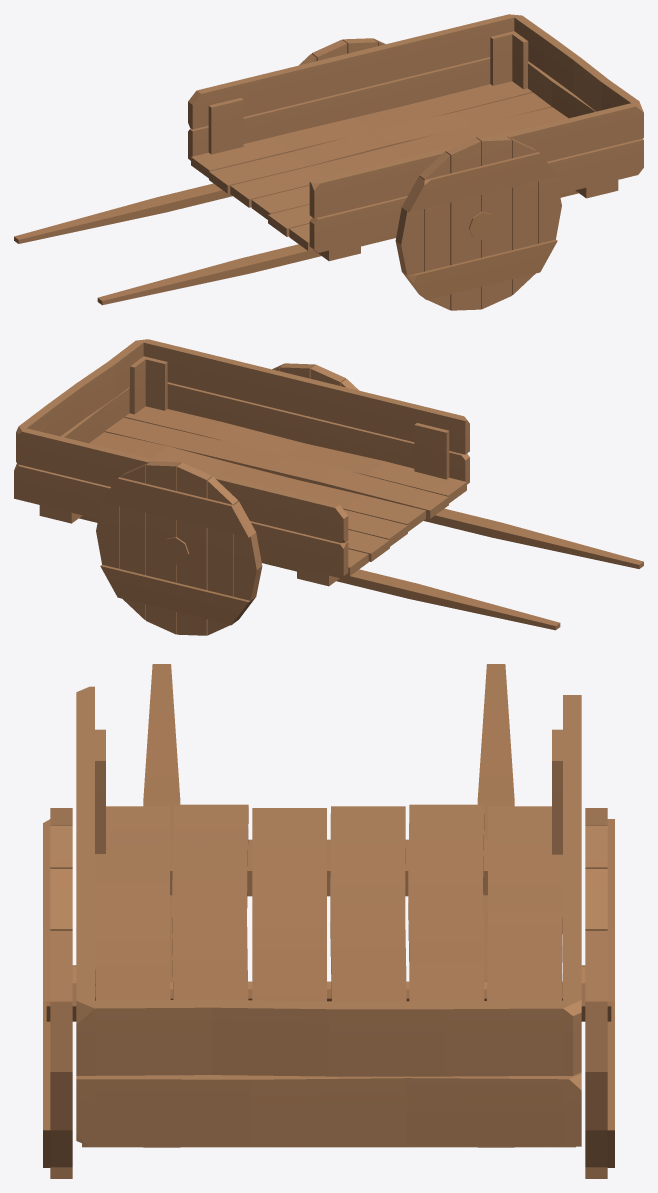
File: SM_Cart_01.gltf
3 renders of one model, top to bottom at view 1: azimuth 30°, elevation 25°; view 2: azimuth 150°, elevation 25°; view 3: azimuth 270°, elevation 25°, orthographic. The views are drawn at different scales.
Parts seen in each view (by area): view 1: SM_Cart_01; view 2: SM_Cart_01; view 3: SM_Cart_01.
Boxes of the visible parts, left/top/right/bottom form: SM_Cart_01: left=14, top=14, right=643, bottom=310; SM_Cart_01: left=14, top=339, right=643, bottom=635; SM_Cart_01: left=43, top=664, right=614, bottom=1178.
Size of the model in its own units: 3.25 by 0.999 by 1.54.
